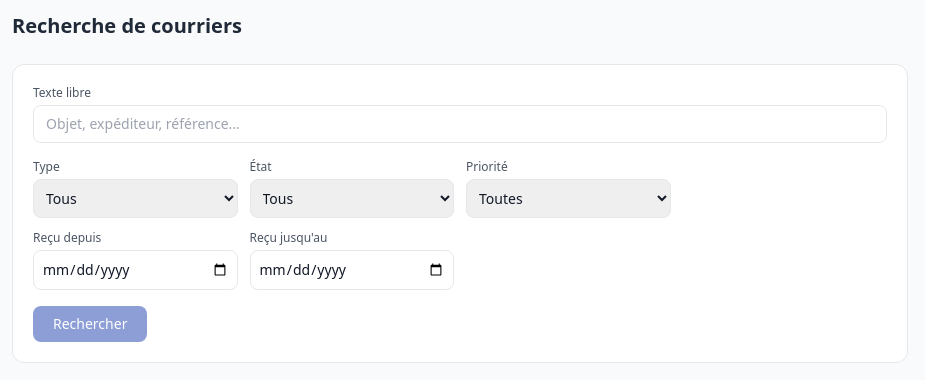
Scenario: RecherchePage › active le bouton quand un texte est saisi
Type "rapport" into the field with placeholder "Objet, expéditeur, référence…" at point(460, 124), box [33, 105, 887, 143]
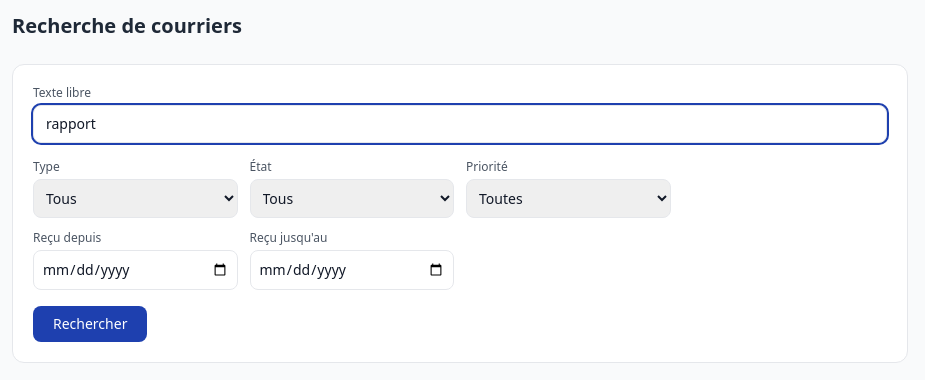
Now the button "Rechercher" is enabled, box [33, 306, 147, 342]
